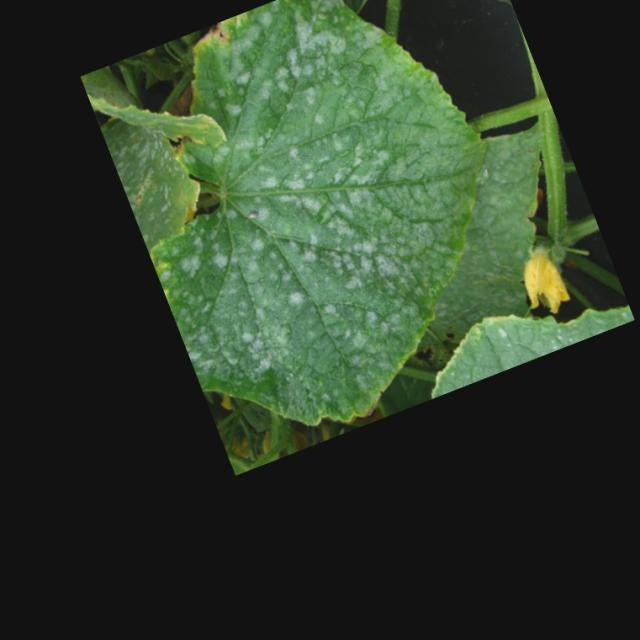Powdery_Mildew: (96, 0, 496, 414)
